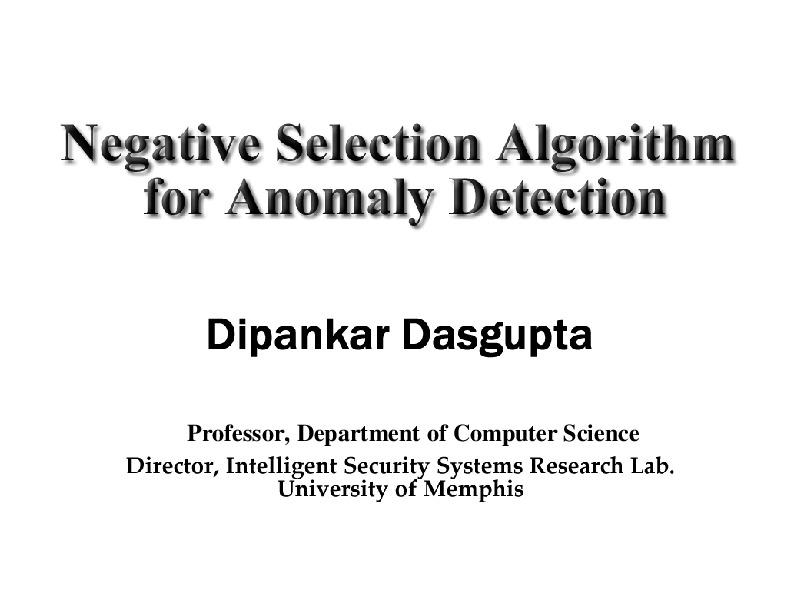subtitle: (120, 301, 737, 518)
title: (46, 109, 756, 240)
